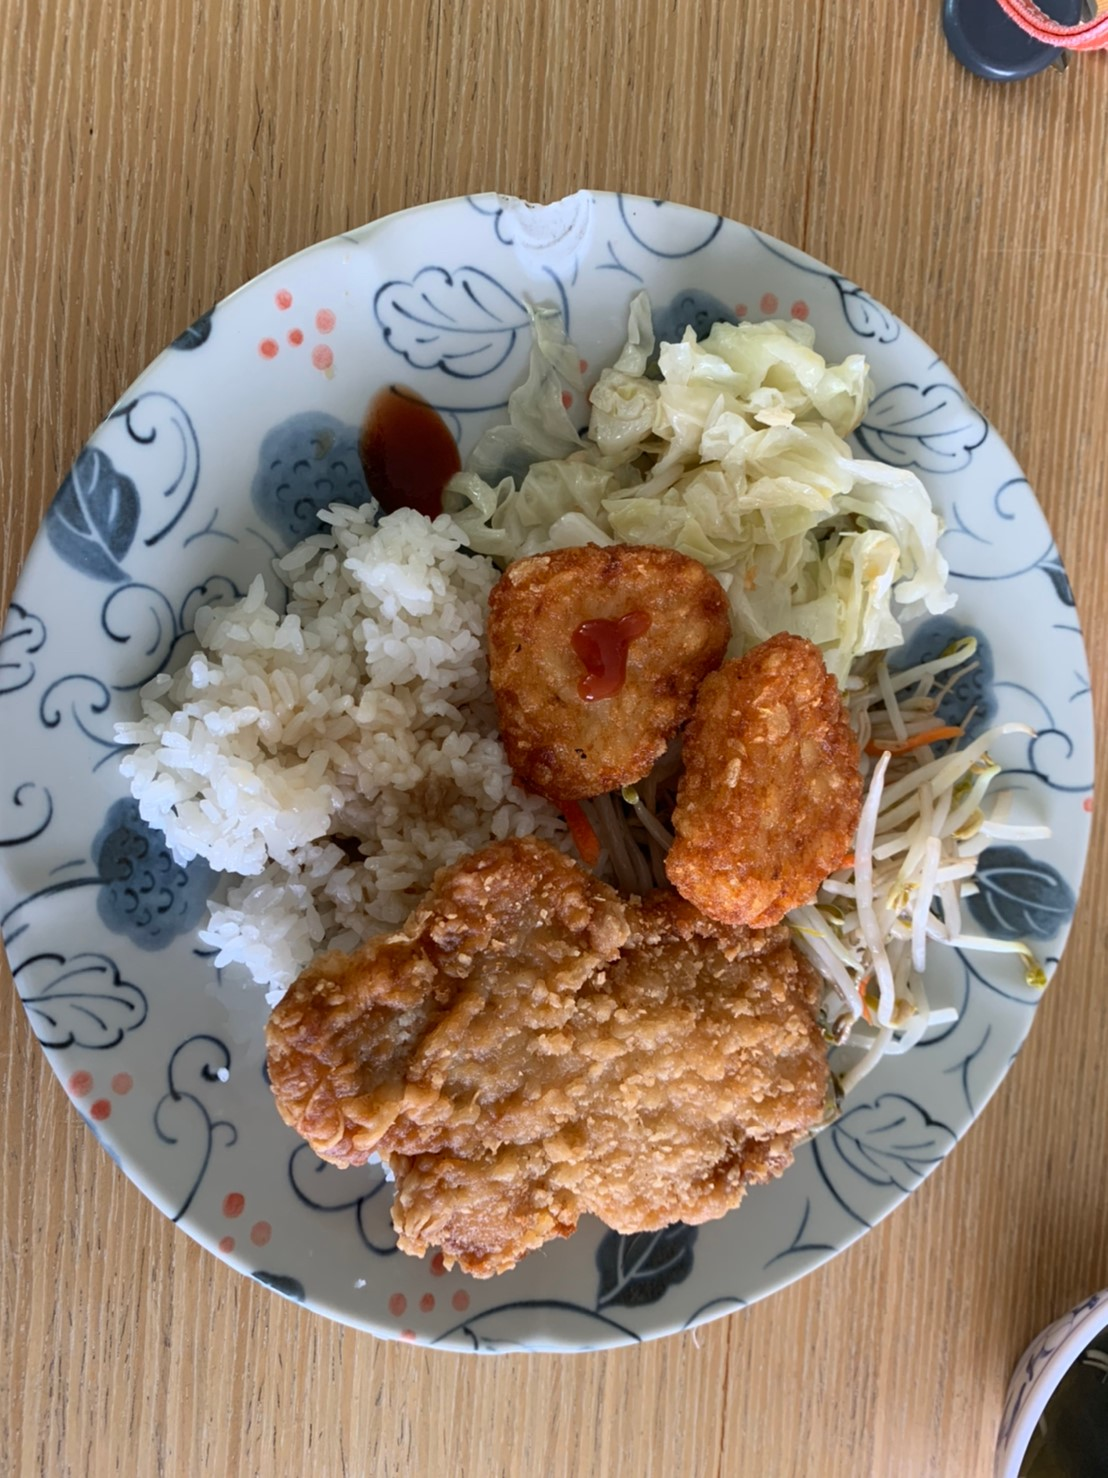chinese_cabbage: (520, 339, 897, 672)
fried_chicken: (276, 850, 828, 1258)
mung_bean_sprouts: (819, 644, 1003, 1056)
rice: (176, 556, 481, 914)
triangle_hash_brown: (490, 546, 858, 932)
